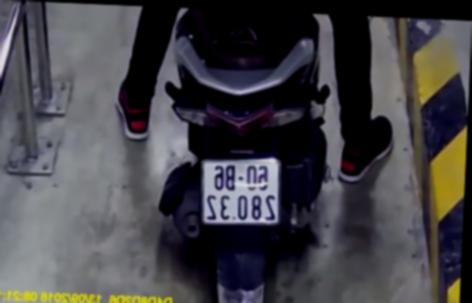License_Plate: (195, 150, 290, 234)
